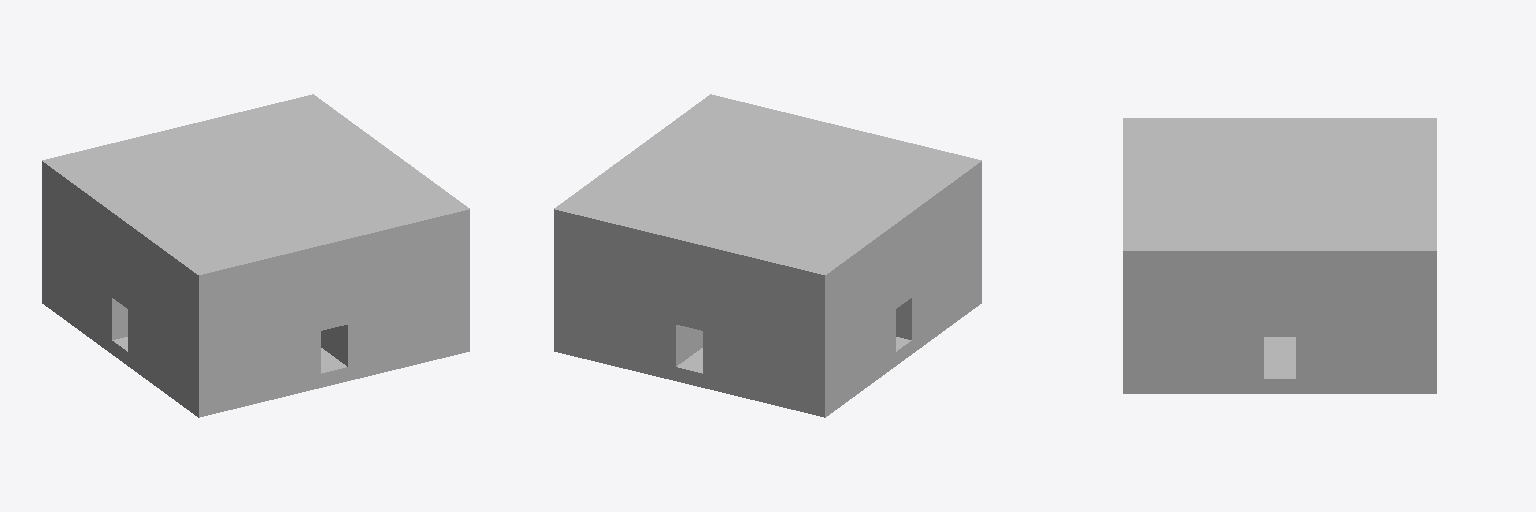
Rendered from test_wall_indoor.obj.
3 views of the same model, side by side, from view 1: azimuth 30°, elevation 25°; view 2: azimuth 150°, elevation 25°; view 3: azimuth 270°, elevation 25° (orthographic).
Visible parts, largest first — view 1: test_wall_indoor; view 2: test_wall_indoor; view 3: test_wall_indoor.
Boxes of the visible parts, x1=… form: test_wall_indoor: x1=42, y1=94, x2=469, y2=417; test_wall_indoor: x1=554, y1=94, x2=981, y2=417; test_wall_indoor: x1=1123, y1=118, x2=1436, y2=393.
Bounding box in the file's own units: 40 × 20 × 40.